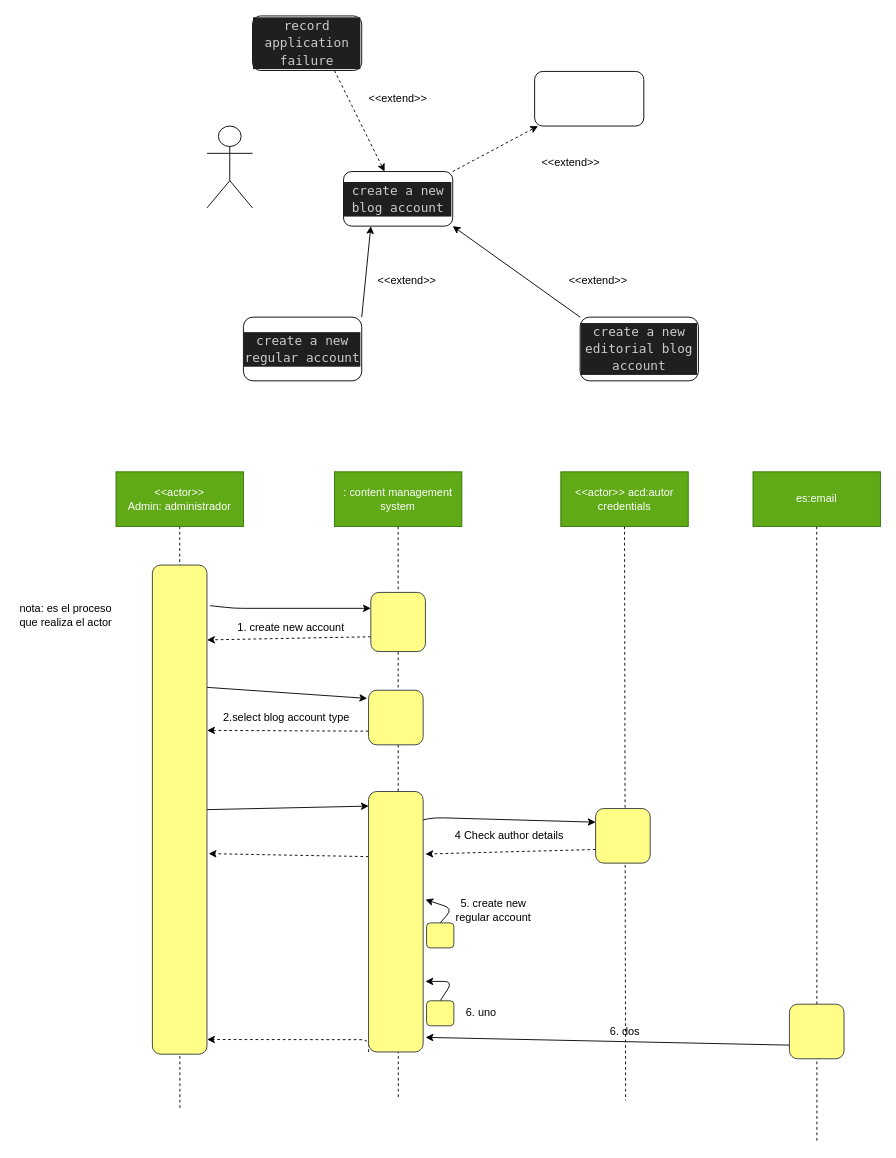
Image size: 896x1158. Some labels were removed from this diagram. Here are the shapes that lost their labels. From the top down, the box of each, then its label:
(534, 71, 644, 126): check identity
(206, 125, 253, 208): Actor
(151, 564, 207, 1054): 3. Enter author credentials
